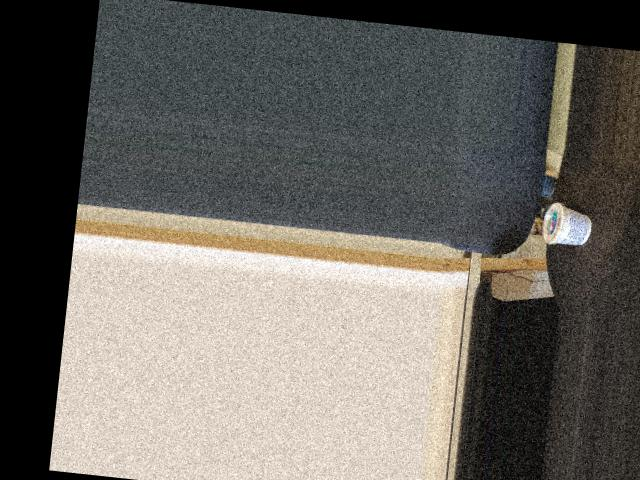cotage: (538, 202, 594, 244)
